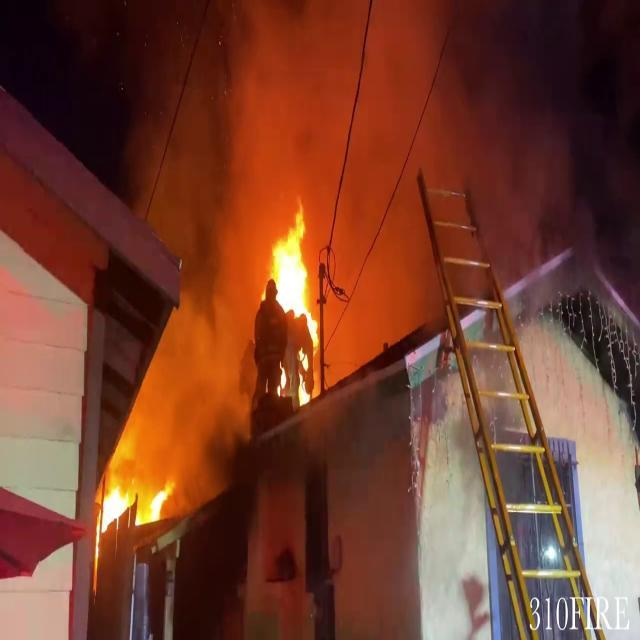Fire: (265, 201, 325, 403), (96, 463, 174, 550)
Smoke: (118, 0, 564, 347)
